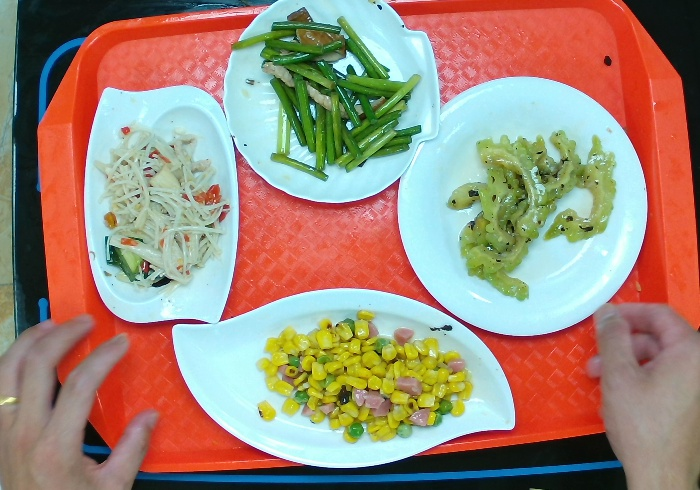RJxy-Bei_Ke_Wan: (222, 1, 442, 205)
RJxy-Jian_Jiao_Fang_Die: (82, 82, 241, 325)
RJxy-Jian_Jiao_Pan: (170, 286, 517, 470)
RJxy-Yuan_Pan: (396, 74, 649, 338)
